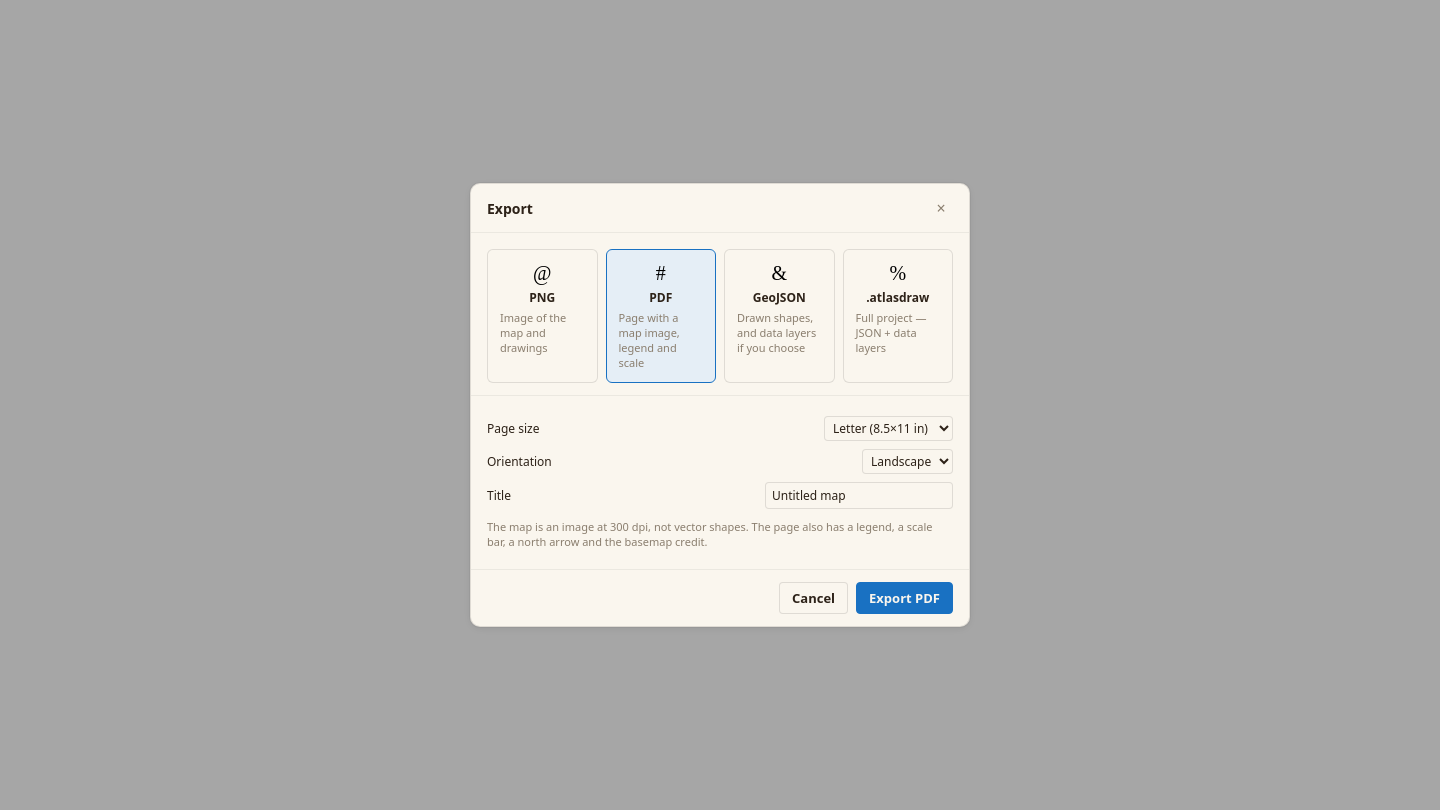
Scenario: ExportDialog — PDF › surfaces the compositor's error and stays open
Click the button with test id "export-dialog-export".
click(905, 598)  # box [856, 582, 953, 614]
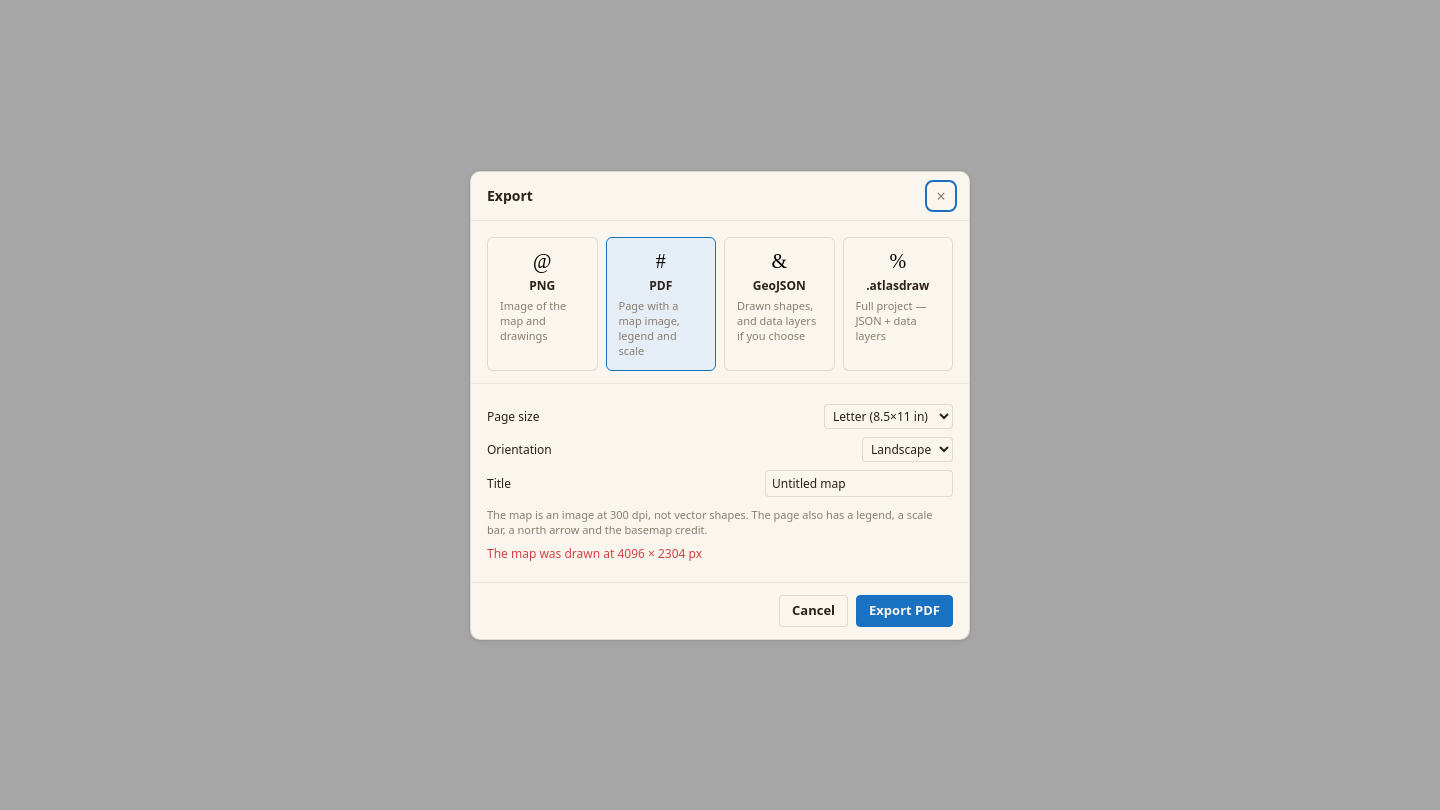
Check: the message with test id "export-pdf-error" shows "4096 × 2304 px", box [487, 544, 702, 562]
